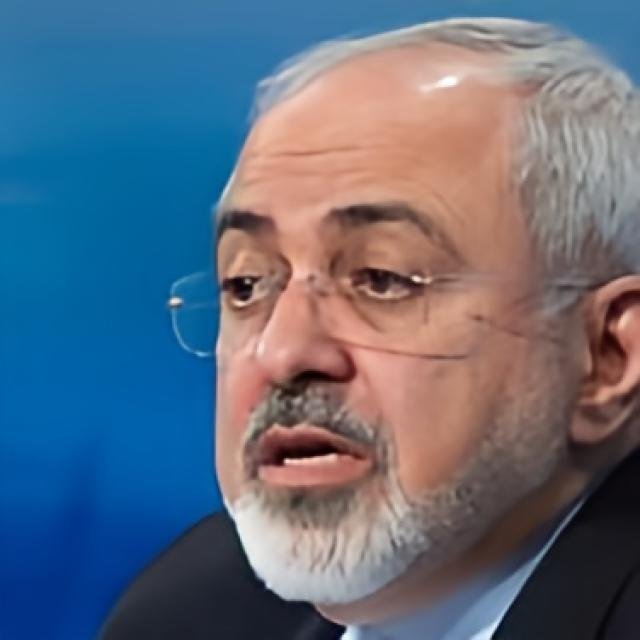surprise: (212, 73, 571, 604)
